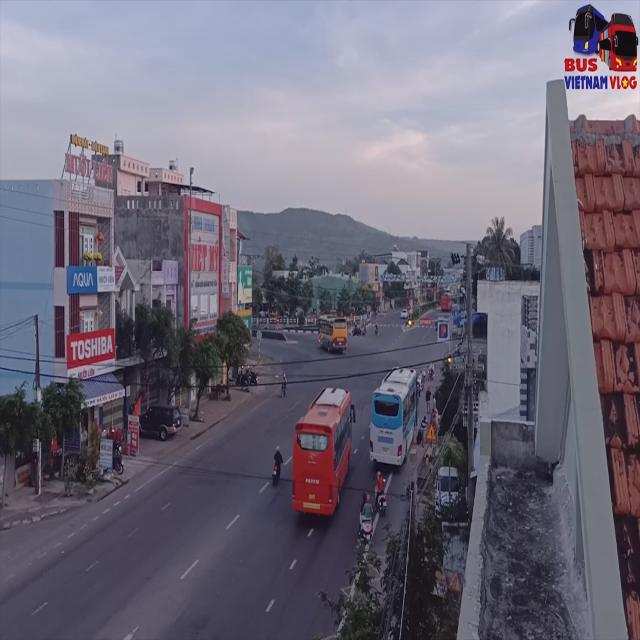bus: (291, 384, 353, 519), (368, 366, 418, 470)
motorbike: (359, 489, 374, 547), (375, 468, 389, 519), (270, 440, 284, 484)
